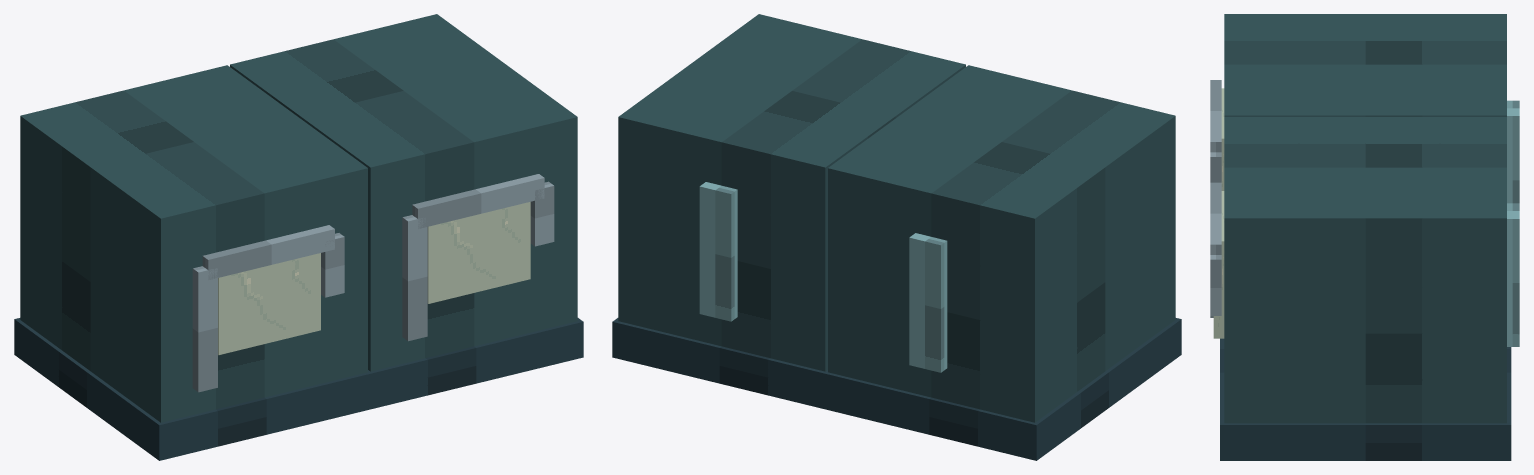
Rendered from huashen_taixu_boots.obj.
3 views of the same model, side by side, from view 1: azimuth 30°, elevation 25°; view 2: azimuth 150°, elevation 25°; view 3: azimuth 270°, elevation 25° (orthographic).
Visible parts, largest first — view 1: silent_boot_-1, silent_boot_1, silent_sole_-1, void_boot_face_1, silent_sole_1, void_boot_face_-1, boot_window_-1_1, boot_window_1_1, boot_window_-1_0, boot_window_1_0, boot_window_1_2, boot_window_-1_2; view 2: silent_boot_-1, silent_boot_1, silent_sole_-1, silent_sole_1, silent_heel_-1, silent_heel_1; view 3: silent_boot_1, silent_boot_-1, silent_sole_1, silent_heel_1, silent_heel_-1, boot_window_-1_1, boot_window_1_1, void_boot_face_1, boot_window_1_2, void_boot_face_-1, boot_window_-1_2.
Boxes of the visible parts, box(x1,y1,x2,y2) form: silent_boot_-1: box(20, 65, 367, 422); silent_boot_1: box(230, 14, 577, 371); silent_sole_-1: box(14, 318, 373, 460); void_boot_face_1: box(427, 202, 530, 303); silent_sole_1: box(367, 318, 583, 408); void_boot_face_-1: box(218, 253, 320, 354); boot_window_-1_1: box(202, 225, 334, 279); boot_window_1_1: box(412, 174, 544, 228); boot_window_-1_0: box(192, 266, 217, 392); boot_window_1_0: box(402, 215, 427, 341); boot_window_1_2: box(530, 181, 554, 246); boot_window_-1_2: box(321, 233, 344, 297); silent_boot_-1: box(828, 65, 1175, 422); silent_boot_1: box(618, 14, 965, 371); silent_sole_-1: box(822, 318, 1181, 460); silent_sole_1: box(612, 318, 828, 408); silent_heel_-1: box(909, 233, 947, 372); silent_heel_1: box(699, 182, 737, 321); silent_boot_1: box(1224, 116, 1506, 423); silent_boot_-1: box(1224, 14, 1506, 116); silent_sole_1: box(1220, 338, 1511, 460); silent_heel_1: box(1507, 203, 1519, 346); silent_heel_-1: box(1507, 100, 1519, 203); boot_window_-1_1: box(1210, 80, 1221, 152); boot_window_1_1: box(1210, 182, 1221, 254); void_boot_face_1: box(1213, 191, 1224, 338); boot_window_1_2: box(1210, 255, 1221, 315); void_boot_face_-1: box(1221, 88, 1224, 190); boot_window_-1_2: box(1210, 152, 1221, 182).
Size of the model in its own units: 0.5437 by 0.2937 by 0.3422.
